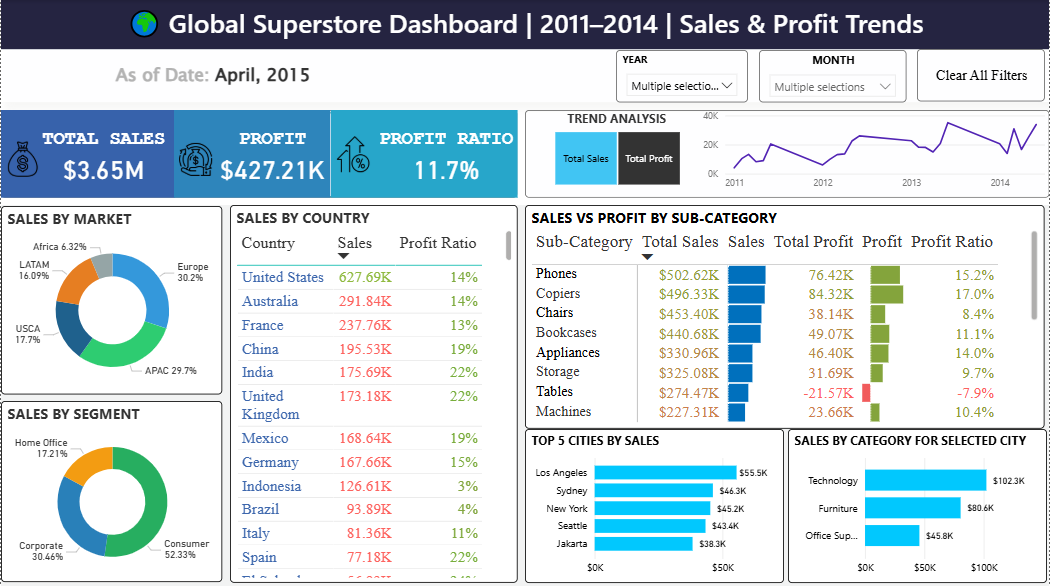

The dashboard page shown, as its layout file describes it:
{"tool":"powerbi","page":{"name":"Overview","canvas":[1280,720],"ordinal":0},"visuals":[{"type":"shape","box":[0,250.4,1280,470.3],"z":0},{"type":"shape","box":[0,61.2,1280,189.2],"z":1000},{"type":"shape","box":[0,134.2,630.2,107.1],"z":2000},{"type":"shape","box":[0,61.5,1280,64],"z":3000},{"type":"shape","box":[0,0,1280,59.8],"z":4000},{"type":"shape","box":[0,134.2,211.7,107.1],"z":5000},{"type":"textbox","box":[0,0,1280,60],"z":6000},{"type":"actionButton","box":[1117.5,60.3,156.3,64],"z":7000},{"type":"slicer","title":"YEAR","fields":{"Values":["Orders.Order Date.Variation.Date Hierarchy.Year"]},"box":[750.8,61.5,161.2,64],"z":8000},{"type":"slicer","title":"MONTH","fields":{"Values":["Orders.Order Date.Variation.Date Hierarchy.Month"]},"box":[925.5,61.5,179.7,64],"z":9000},{"type":"textbox","box":[13.5,71.4,491.1,41.8],"z":10000},{"type":"card","title":"TOTAL SALES","fields":{"Values":["Sum(Orders.Sales)"]},"box":[39.4,156.3,172.3,76.3],"z":11000},{"type":"shape","box":[211.7,134.2,190.8,107.1],"z":12000},{"type":"shape","box":[402.5,134.2,227.7,107.1],"z":13000},{"type":"image","box":[0,125.2,52.9,136.3],"z":14000},{"type":"image","box":[211.5,126.6,52.9,135],"z":15000},{"type":"card","title":"PROFIT","fields":{"Values":["Sum(Orders.Profit)"]},"box":[259.7,156.3,142.8,76.3],"z":16000},{"type":"card","title":"PROFIT RATIO","fields":{"Values":["Orders.Profit Ratio"]},"box":[456.6,156.3,173.5,76.3],"z":17000},{"type":"image","box":[402.5,134.2,54.2,107.1],"z":18000},{"type":"shape","box":[640,134.2,640,107.1],"z":19000},{"type":"lineChart","fields":{"Y":["Orders.Total Profit"],"Category":["Orders.Order Date.Variation.Date Hierarchy.Year","Orders.Order Date.Variation.Date Hierarchy.Month"]},"box":[851.5,126.6,428.5,114.1],"z":20000},{"type":"slicer","title":"TREND ANALYSIS","fields":{"Values":["Trend Selector.Trend Selector"]},"box":[649.8,134.2,201.8,98.5],"z":21000},{"type":"donutChart","title":"SALES BY SEGMENT","fields":{"Y":["Sum(Orders.Sales)"],"Category":["Orders.Segment"]},"box":[0,489.7,269.9,221.2],"z":22000},{"type":"donutChart","title":"SALES BY MARKET","fields":{"Y":["Sum(Orders.Sales)"],"Category":["Orders.Market"]},"box":[0,251.8,269.9,229.6],"z":23000},{"type":"tableEx","title":"SALES BY COUNTRY","fields":{"Values":["Orders.Country","Sum(Orders.Sales)","Orders.Profit Ratio"]},"box":[279.7,250.4,350.6,460.5],"z":24000},{"type":"pivotTable","title":"SALES VS PROFIT BY SUB-CATEGORY","fields":{"Rows":["Orders.Sub-Category"],"Values":["Orders.Total Sales","Sum(Orders.Sales)","Orders.Total Profit","Sum(Orders.Profit)","Orders.Profit Ratio"]},"box":[640,249.8,633.8,273.2],"z":25000},{"type":"barChart","title":"TOP 5 CITIES BY SALES","fields":{"Category":["Orders.City"],"Y":["Sum(Orders.Sales)"]},"box":[640,523.1,315.8,187.8],"z":26000},{"type":"barChart","title":"SALES BY CATEGORY FOR SELECTED CITY","fields":{"Y":["Sum(Orders.Sales)"],"Category":["Orders.Category"]},"box":[960,523.1,315.8,187.8],"z":27000}]}

Visuals, with their boxes in screenshot pixels (x1, y1, x2, y2), scaled from the page's 1280x720 canvas onto the 1050x586 screenshot:
shape: 0 204 1049 585
shape: 0 50 1049 204
shape: 0 109 517 196
shape: 0 50 1049 102
shape: 0 0 1049 49
shape: 0 109 174 196
textbox: 0 0 1049 49
actionButton: 917 49 1045 101
"YEAR" slicer: 616 50 748 102
"MONTH" slicer: 759 50 907 102
textbox: 11 58 414 92
"TOTAL SALES" card: 32 127 174 189
shape: 174 109 330 196
shape: 330 109 517 196
image: 0 102 43 213
image: 173 103 217 213
"PROFIT" card: 213 127 330 189
"PROFIT RATIO" card: 375 127 517 189
image: 330 109 375 196
shape: 525 109 1049 196
lineChart - Orders.Total Profit x Orders.Order Date.Variation.Date Hierarchy.Year: 698 103 1049 196
"TREND ANALYSIS" slicer: 533 109 699 189
"SALES BY SEGMENT" donutChart: 0 399 221 579
"SALES BY MARKET" donutChart: 0 205 221 392
"SALES BY COUNTRY" tableEx: 229 204 517 579
"SALES VS PROFIT BY SUB-CATEGORY" pivotTable: 525 203 1045 426
"TOP 5 CITIES BY SALES" barChart: 525 426 784 579
"SALES BY CATEGORY FOR SELECTED CITY" barChart: 788 426 1047 579
